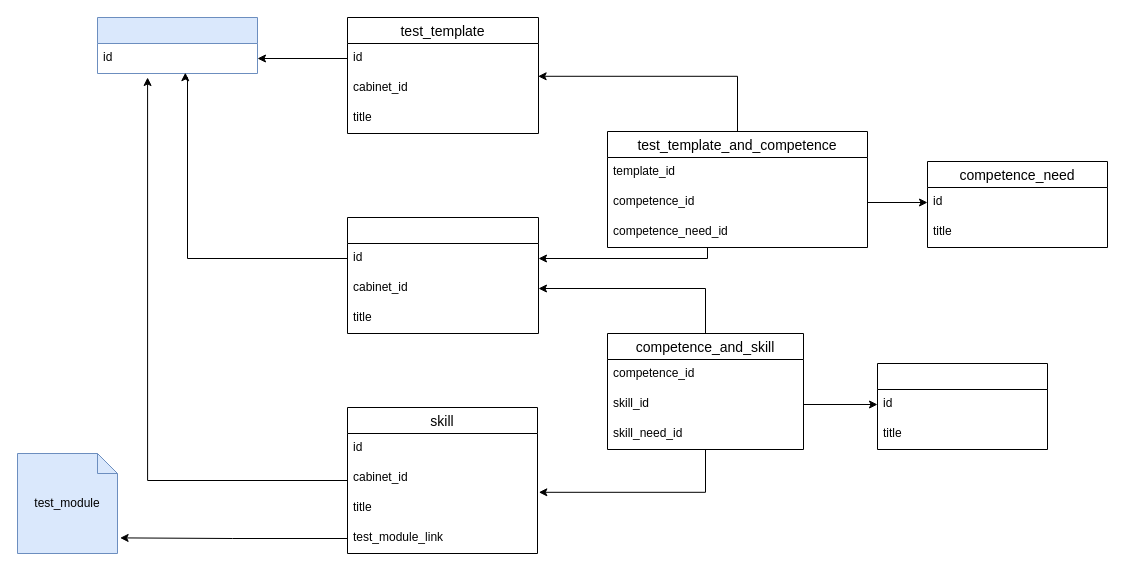
This 1125x574 diagram has some shape labels left out. The shapes that lost their labels are listed below. From the top down, each one's box as (x1, y1, x2, y2) in pixels, then its label:
(96, 16, 258, 74): cabinet (auth)
(346, 216, 538, 334): competence
(876, 362, 1048, 450): skill_need
